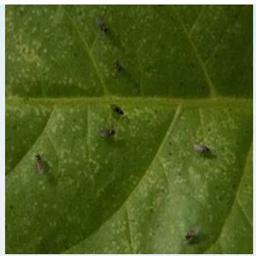liriomyza: (193, 140, 211, 158), (33, 152, 46, 176), (185, 224, 201, 243), (97, 127, 116, 140), (108, 103, 124, 115)
